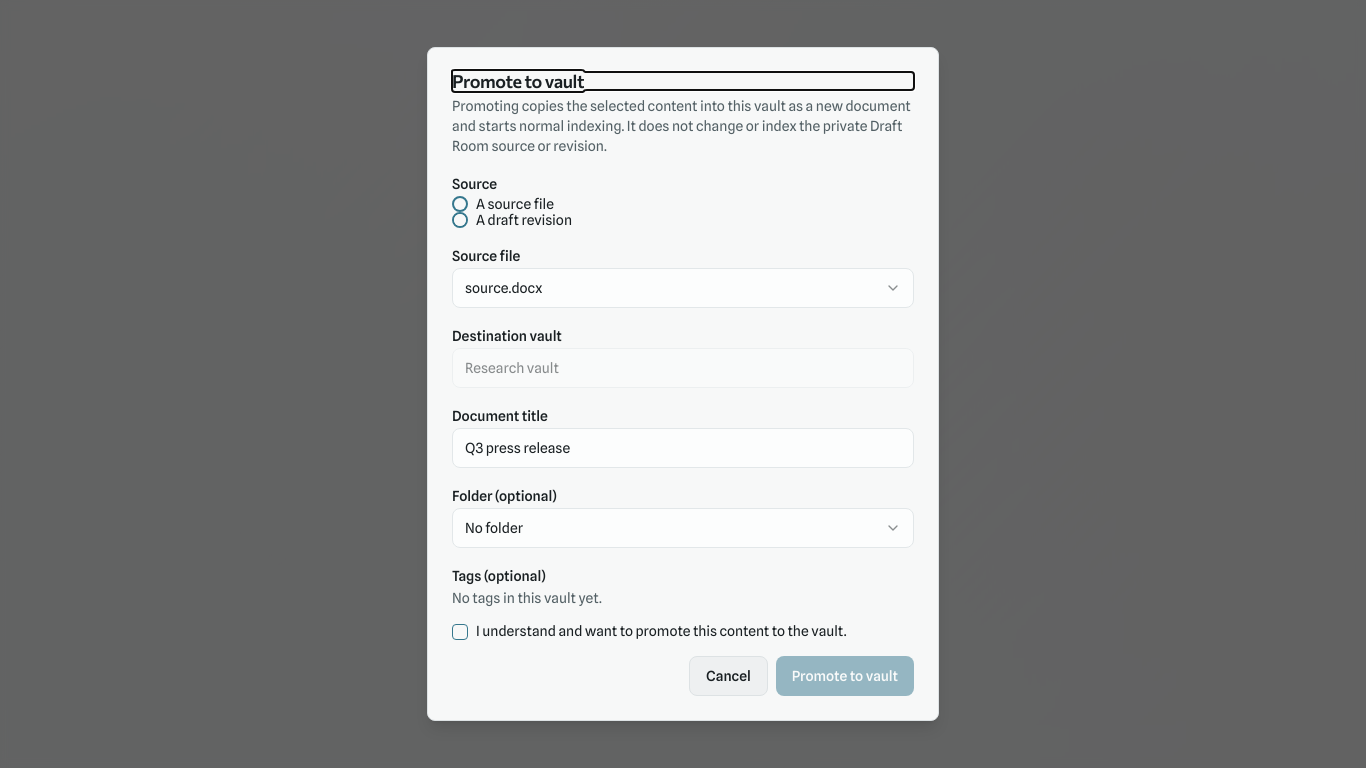
it: DraftPromoteDialog › renders PROMOTE_CONSEQUENCE and requires confirmation before submitting
Expected: the button "Promote to vault" is disabled, [776, 656, 914, 696]
Click the checkbox named "understand and want to promote" at (460, 632), box [452, 624, 468, 640]
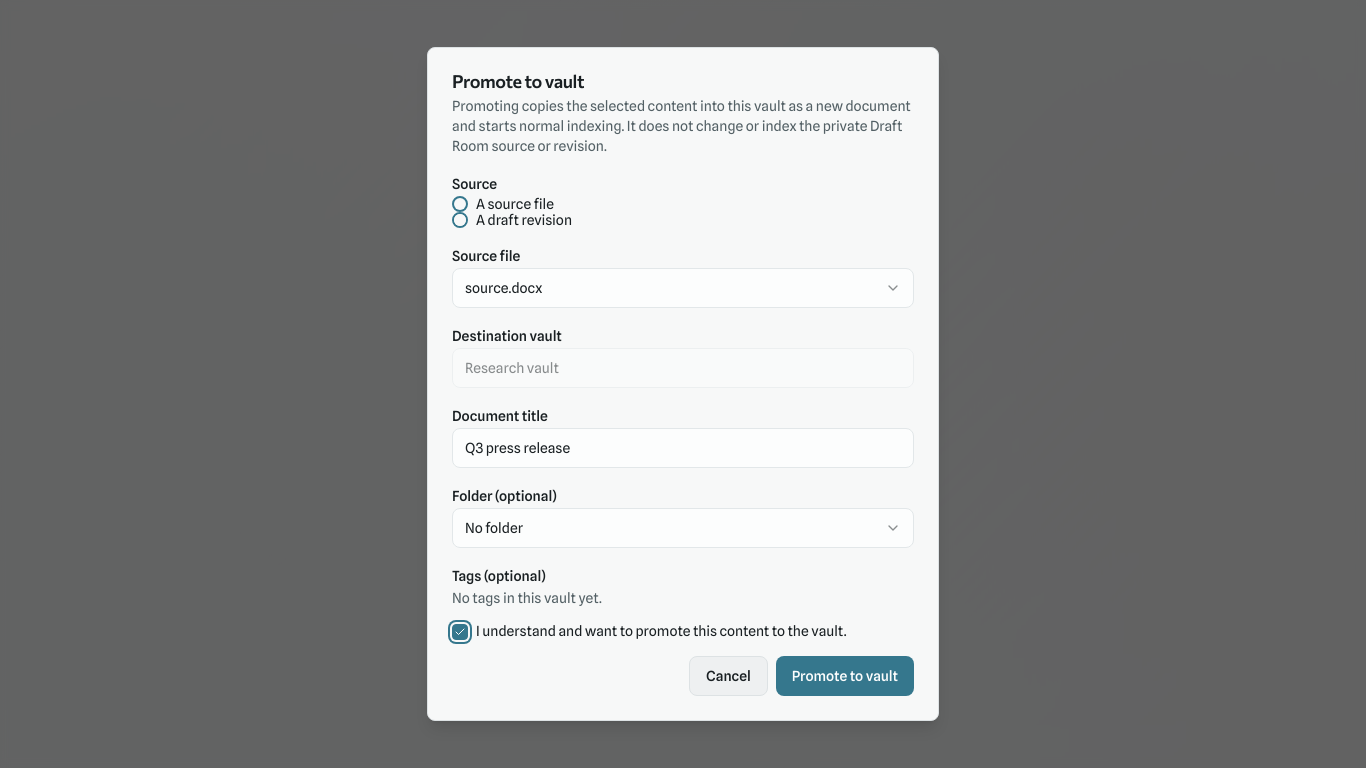
Expected: the button "Promote to vault" is enabled, [776, 656, 914, 696]
